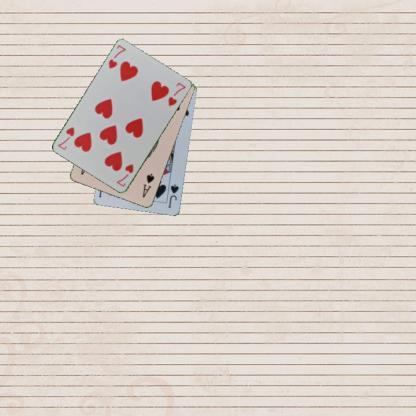7h: (106, 43, 127, 70), (113, 162, 134, 188)
As: (140, 171, 155, 199)
Js: (166, 182, 180, 209)
